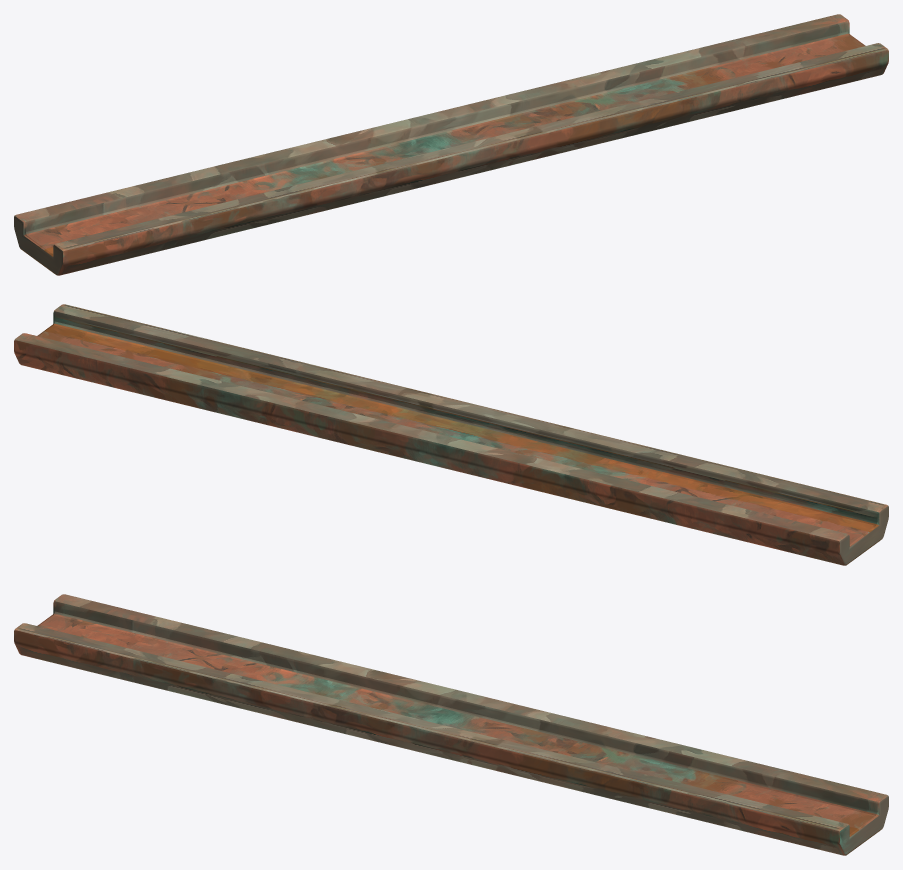
File: beam_02.gltf
3 views of the same model, one above another, from view 1: azimuth 30°, elevation 25°; view 2: azimuth 150°, elevation 25°; view 3: azimuth 330°, elevation 25° (orthographic).
Visible parts, largest first — view 1: Beam02; view 2: Beam02; view 3: Beam02.
Boxes of the visible parts, x1=… form: Beam02: x1=14, y1=14, x2=888, y2=275; Beam02: x1=14, y1=304, x2=888, y2=565; Beam02: x1=14, y1=594, x2=888, y2=855.
Size of the model in its own units: 32.94 by 1.16 by 3.45.
Materials: 1 (1 with a texture image).
